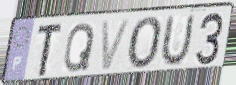3: (193, 10, 225, 67)
O: (126, 15, 164, 72)
Q: (62, 22, 97, 74)
T: (36, 21, 65, 79)
U: (158, 12, 197, 69)
V: (100, 17, 133, 74)
